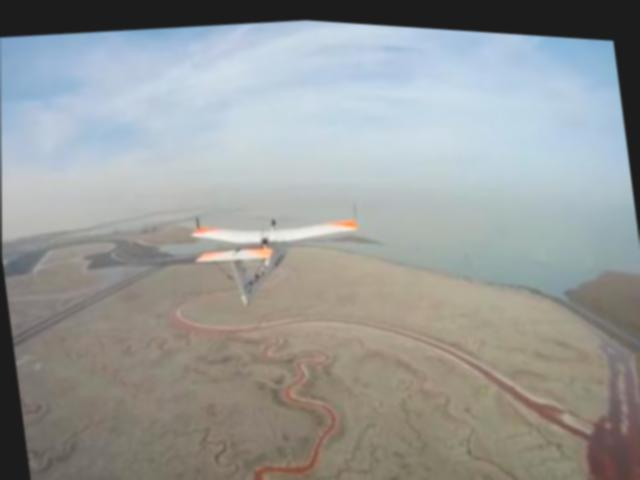uav: (183, 188, 370, 322)
